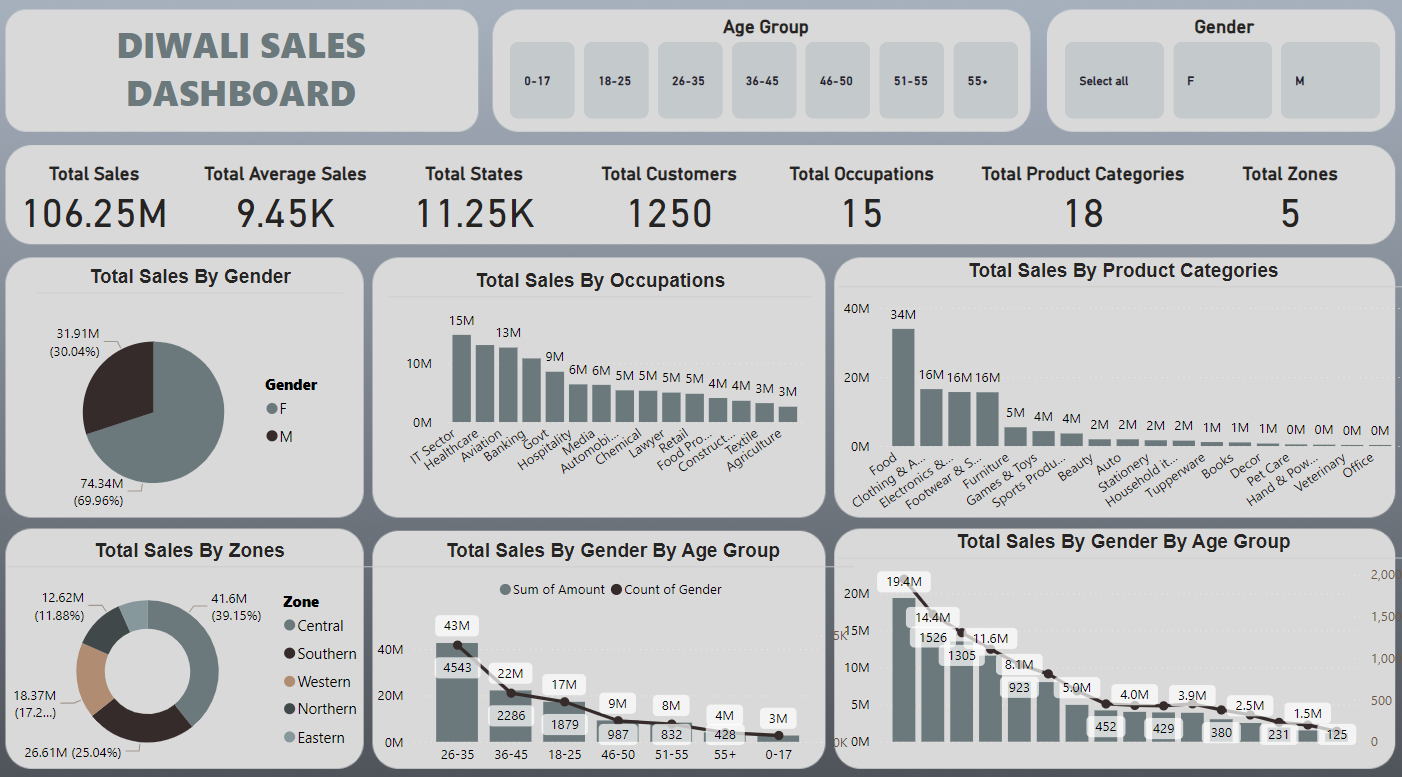

The page's visual inventory and layout, read from the dashboard file:
{"tool":"powerbi","page":{"name":"Page 1","canvas":[1280,720],"ordinal":0},"visuals":[{"type":"textbox","box":[9.3,19.8,424.4,111.6],"z":0},{"type":"advancedSlicerVisual","fields":{"Values":["Diwali Sales Data.Age Group"]},"box":[460.5,19.8,474.4,100],"z":1000},{"type":"advancedSlicerVisual","fields":{"Values":["Diwali Sales Data.Gender"]},"box":[964,19.8,298.8,100],"z":2000},{"type":"card","title":"Total Sales","fields":{"Values":["Diwali Sales Data.Amount"]},"box":[9.3,153.5,158.1,66.3],"z":3000,"group":"g1"},{"type":"pieChart","title":"Total Sales By Gender","fields":{"Y":["Diwali Sales Data.Amount"],"Category":["Diwali Sales Data.Gender"]},"box":[36,246.5,277.9,239.5],"z":3000},{"type":"card","title":"Total Average Sales","fields":{"Values":["Diwali Sales Data.Amount"]},"box":[182.6,153.5,158.1,66.3],"z":4000,"group":"g1"},{"type":"columnChart","title":"Total Sales By Occupations","fields":{"Category":["Diwali Sales Data.Occupation"],"Y":["Diwali Sales Data.Amount"]},"box":[354.7,250,384.9,197.7],"z":4000},{"type":"card","title":"Total States","fields":{"Values":["Diwali Sales Data.State"]},"box":[354.6,153.5,158.1,66.3],"z":5000,"group":"g1"},{"type":"columnChart","title":"Total Sales By Product Categories","fields":{"Category":["Diwali Sales Data.Product_Category"],"Y":["Diwali Sales Data.Amount"]},"box":[762.8,240.7,517.4,239.5],"z":5000},{"type":"card","title":"Total Customers","fields":{"Values":["Diwali Sales Data.Cust_name"]},"box":[531.4,153.5,158.1,66.3],"z":6000,"group":"g1"},{"type":"donutChart","title":"Total Sales By Zones","fields":{"Y":["Diwali Sales Data.Amount"],"Category":["Diwali Sales Data.Zone"]},"box":[9.3,494.2,331.4,212.8],"z":6000},{"type":"card","title":"Total Occupations","fields":{"Values":["Diwali Sales Data.Occupation"]},"box":[705.8,153.5,158.1,66.3],"z":7000,"group":"g1"},{"type":"lineStackedColumnComboChart","title":"Total Sales By Gender By Age Group","fields":{"Category":["Diwali Sales Data.Age Group"],"Y":["Diwali Sales Data.Amount"],"Y2":["Diwali Sales Data.Gender"]},"box":[340.7,494.2,437.2,212.8],"z":7000},{"type":"card","title":"Total Product Categories","fields":{"Values":["Diwali Sales Data.Product_Category"]},"box":[880.2,153.5,210.5,66.3],"z":8000,"group":"g1"},{"type":"lineStackedColumnComboChart","title":"Total Sales By Gender By Age Group","fields":{"Y":["Diwali Sales Data.Amount"],"Y2":["Diwali Sales Data.Gender"],"Category":["Diwali Sales Data.State"]},"box":[762.8,486,517.4,204.7],"z":8000},{"type":"card","title":"Total Zones","fields":{"Values":["Diwali Sales Data.Zone"]},"box":[1101.2,153.5,144.2,66.3],"z":9000,"group":"g1"},{"type":"group","id":"g1","title":"Group 1","box":[9.3,153.5,1236.1,66.3],"z":9000},{"type":"image","box":[9.1,19.3,94.1,95.3],"z":9001},{"type":"image","box":[339.1,19.3,94.1,95.3],"z":9002}]}

Visuals, with their boxes in screenshot pixels (x1, y1, x2, y2), scaled from the page's 1280x720 canvas onto the 1402x777 screenshot:
textbox: [10,21,475,142]
advancedSlicerVisual - Diwali Sales Data.Age Group: [504,21,1024,129]
advancedSlicerVisual - Diwali Sales Data.Gender: [1056,21,1383,129]
"Total Sales" card: [10,166,183,237]
"Total Sales By Gender" pieChart: [39,266,344,524]
"Total Average Sales" card: [200,166,373,237]
"Total Sales By Occupations" columnChart: [389,270,810,483]
"Total States" card: [388,166,562,237]
"Total Sales By Product Categories" columnChart: [836,260,1401,518]
"Total Customers" card: [582,166,755,237]
"Total Sales By Zones" donutChart: [10,533,373,763]
"Total Occupations" card: [773,166,946,237]
"Total Sales By Gender By Age Group" lineStackedColumnComboChart: [373,533,852,763]
"Total Product Categories" card: [964,166,1195,237]
"Total Sales By Gender By Age Group" lineStackedColumnComboChart: [836,524,1401,745]
"Total Zones" card: [1206,166,1364,237]
"Group 1" group: [10,166,1364,237]
image: [10,21,113,124]
image: [371,21,474,124]
